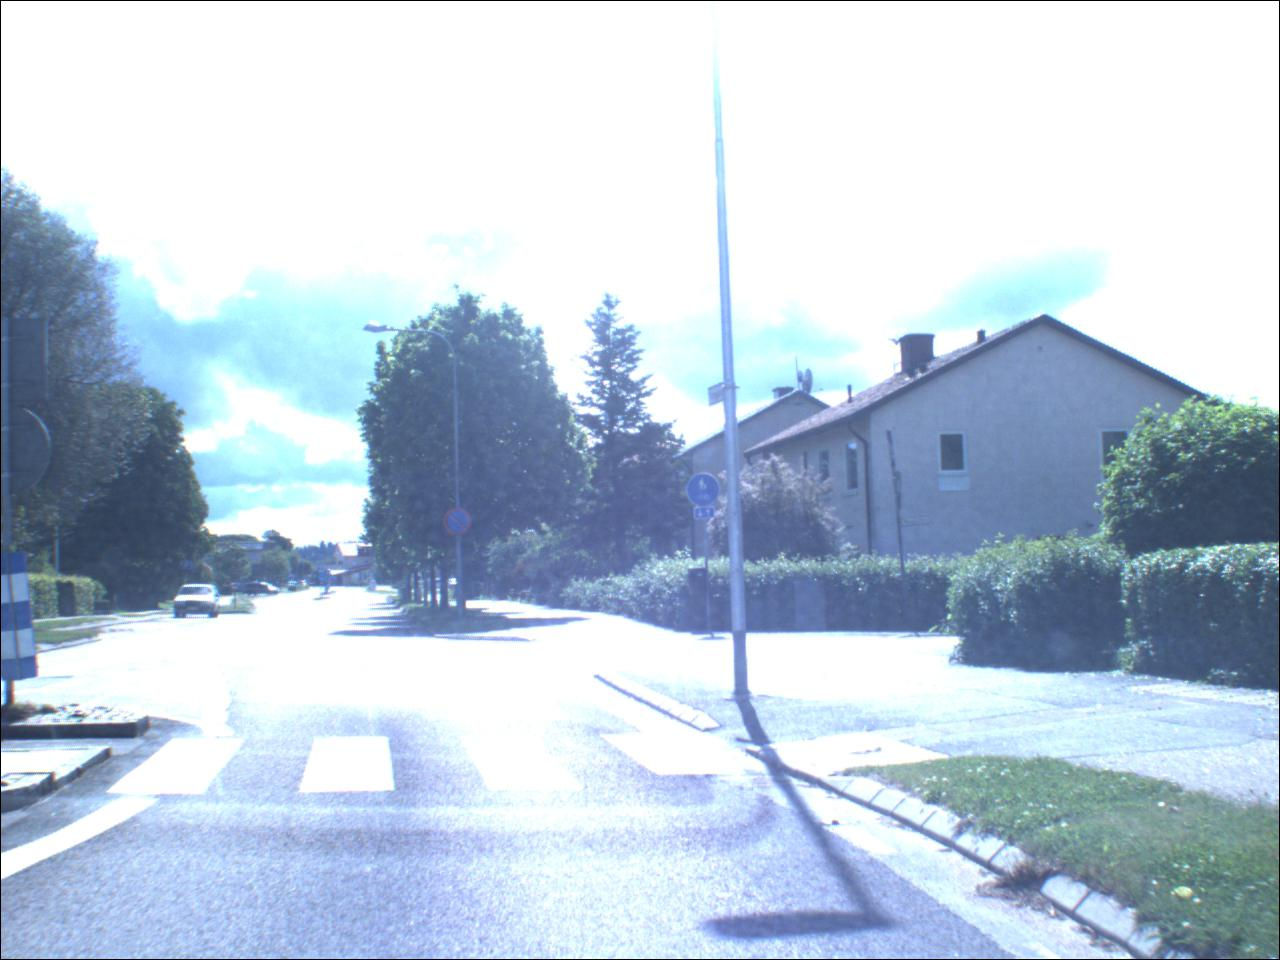NO_PARKING: (443, 510, 474, 539)
